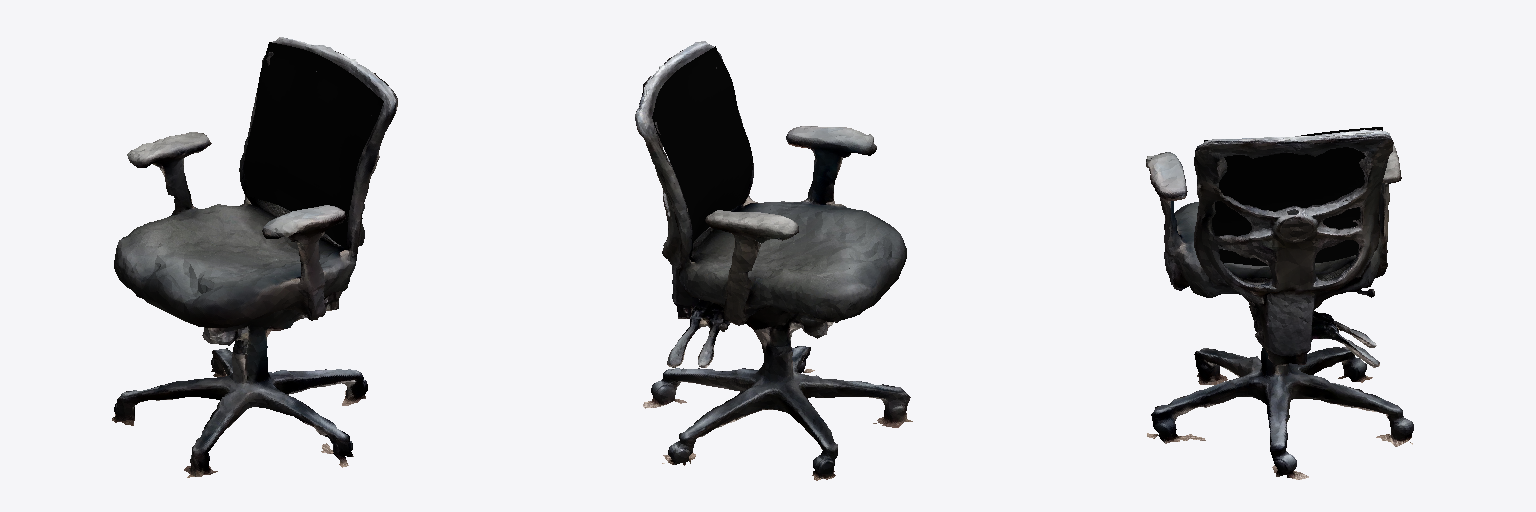
3 renders of one model, left to right at view 1: azimuth 30°, elevation 25°; view 2: azimuth 150°, elevation 25°; view 3: azimuth 270°, elevation 25°, orthographic.
Visible parts, largest first — view 1: poly.001, Plane; view 2: poly.001, Plane; view 3: poly.001, Plane.
Part boxes in pixels (x1,y1,x2,y2): poly.001: (112,37,397,477); Plane: (244,42,383,248); poly.001: (635,41,912,480); Plane: (652,46,752,255); poly.001: (1146,129,1413,479); Plane: (1204,127,1382,265).
Bounding box in the file's own units: 0.5912 × 0.8301 × 0.5986.
Materials: 2 (1 with a texture image).